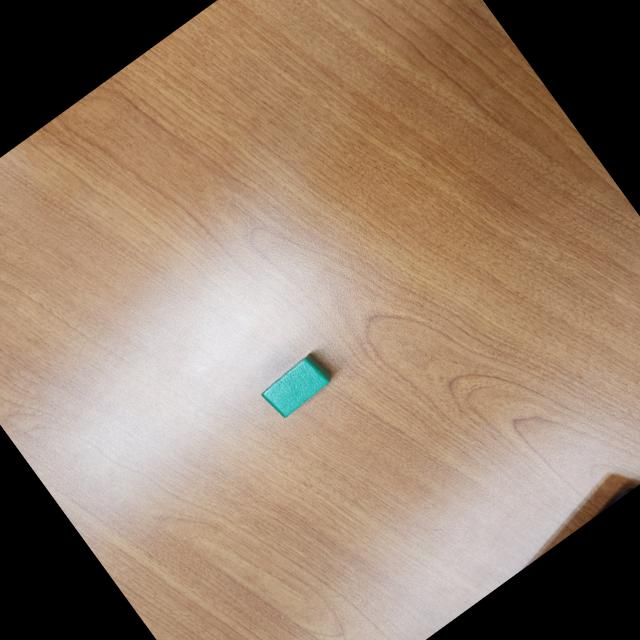green: (257, 348, 336, 421)
